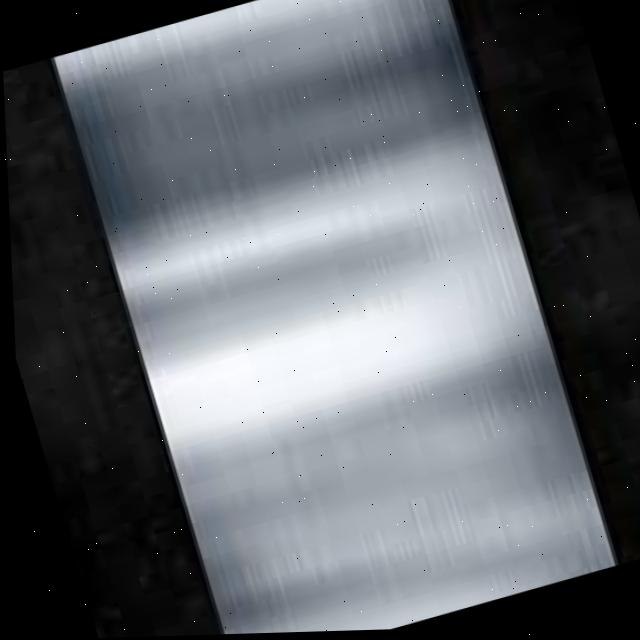Dry: (60, 0, 609, 635)
